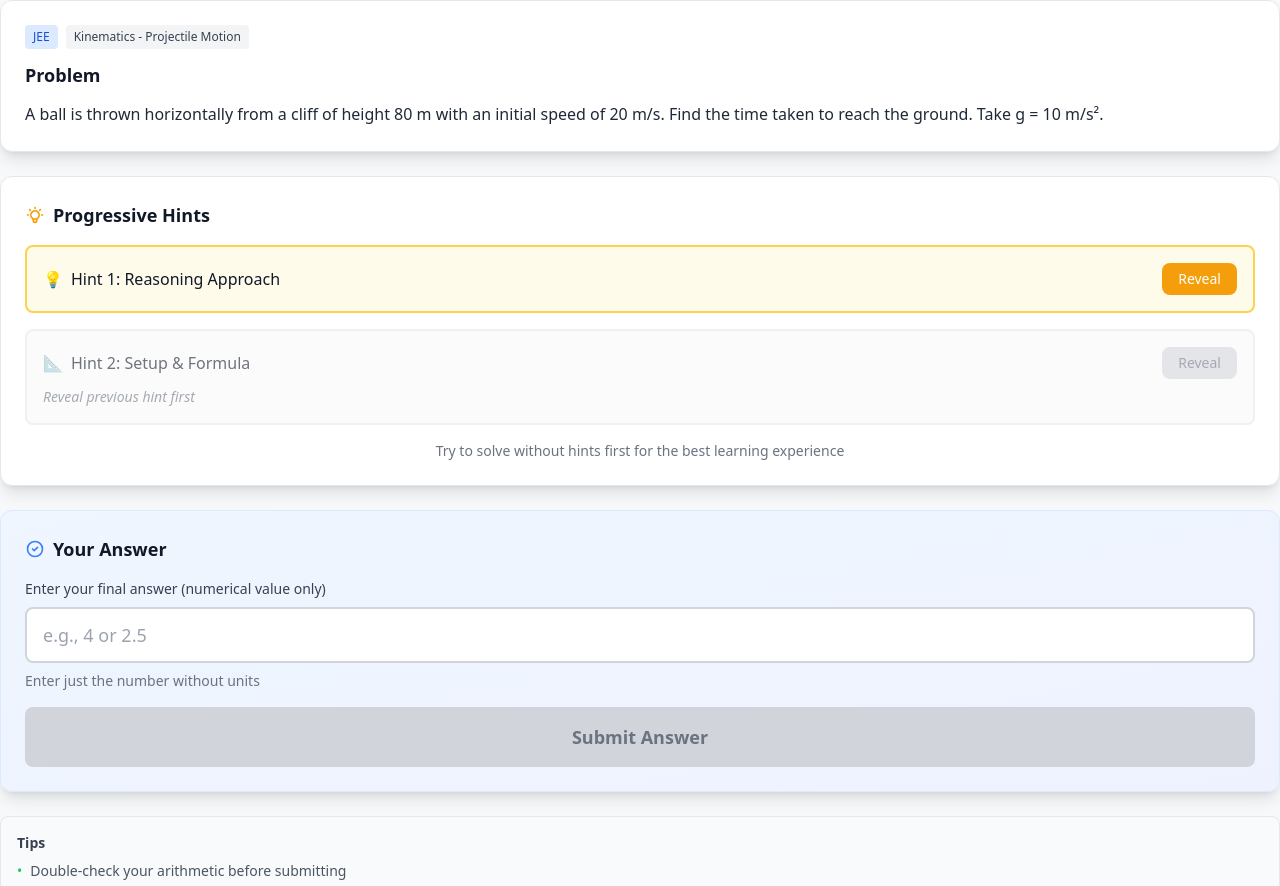
Test: DemoSolvePhase › Answer Submission › enables Submit button when answer is entered
Type "4" into the field with placeholder "e.g., 4 or 2.5" at (640, 635), box [25,607,1255,663]
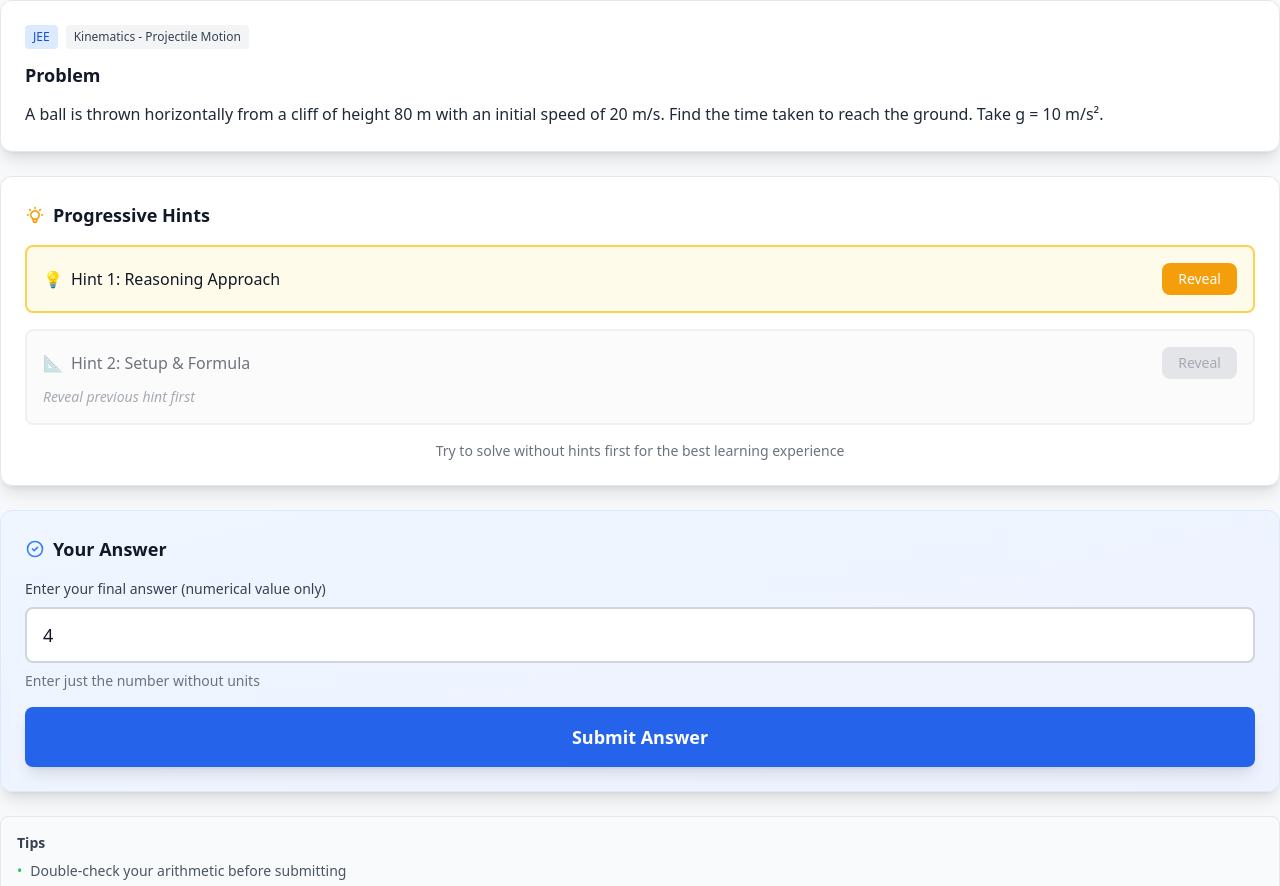
Check: the button "Submit Answer" is enabled, box [25,707,1255,767]
